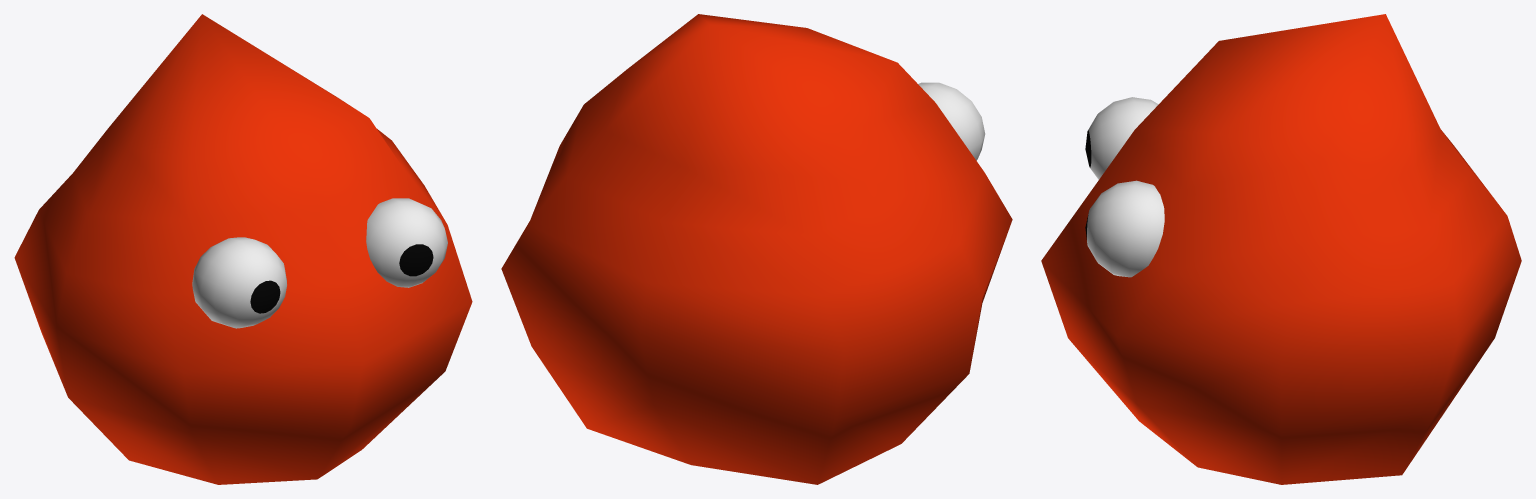
Rendered from testmonster.fbx.
The picture shows the model from 3 angles, left to right: view 1: azimuth 30°, elevation 25°; view 2: azimuth 150°, elevation 25°; view 3: azimuth 270°, elevation 25°; orthographic projection. The views are drawn at different scales.
Visible parts, largest first — view 1: Monster; view 2: Monster; view 3: Monster.
Boxes of the visible parts, x1,y1,x2,y2 form: Monster: [14, 14, 472, 484]; Monster: [501, 14, 1012, 484]; Monster: [1041, 14, 1521, 484].
Size of the model in its own units: 10000 by 10000 by 10000.
